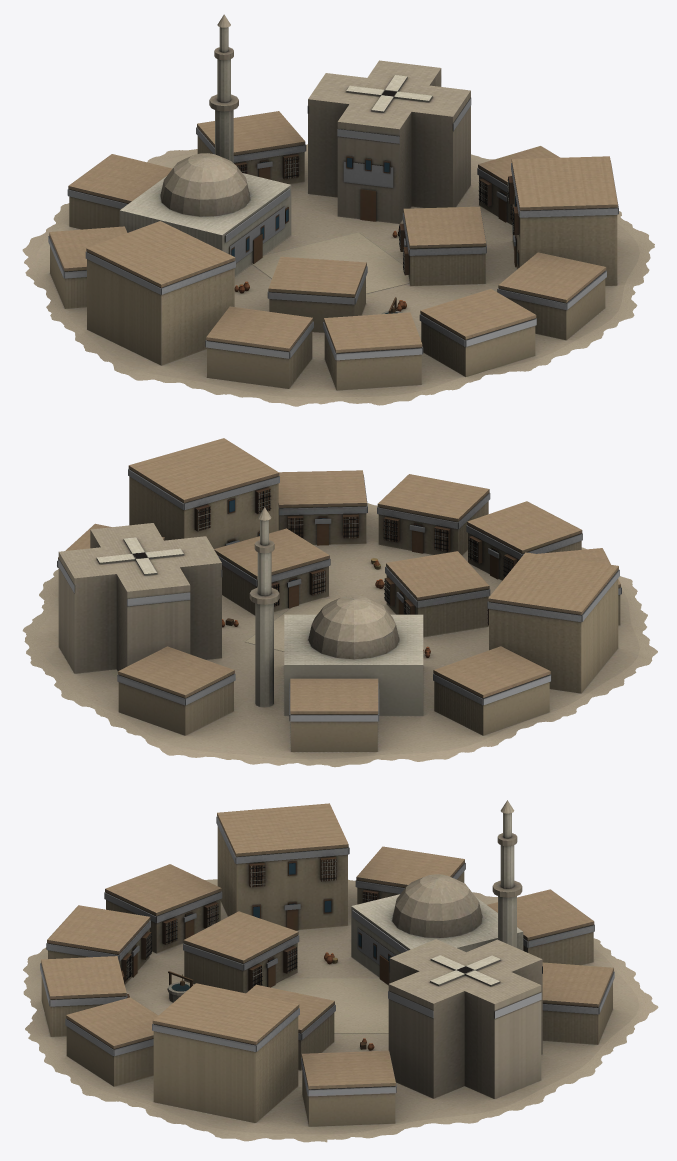
File: kingdoms-town-medium-a-nile-e2ea1f14.glb
The picture shows the model from 3 angles, top to bottom: view 1: azimuth 30°, elevation 25°; view 2: azimuth 150°, elevation 25°; view 3: azimuth 270°, elevation 25°; orthographic projection.
Visible parts, largest first — view 1: LOD0; view 2: LOD0; view 3: LOD0.
Boxes of the visible parts, box(x1,y1,x2,y2) form: LOD0: box(22, 14, 654, 406); LOD0: box(22, 438, 657, 767); LOD0: box(23, 800, 658, 1142).
Size of what is drawn, in the model's own units: 5.95 by 2.03 by 6.
Materials: 3 (3 with a texture image).
